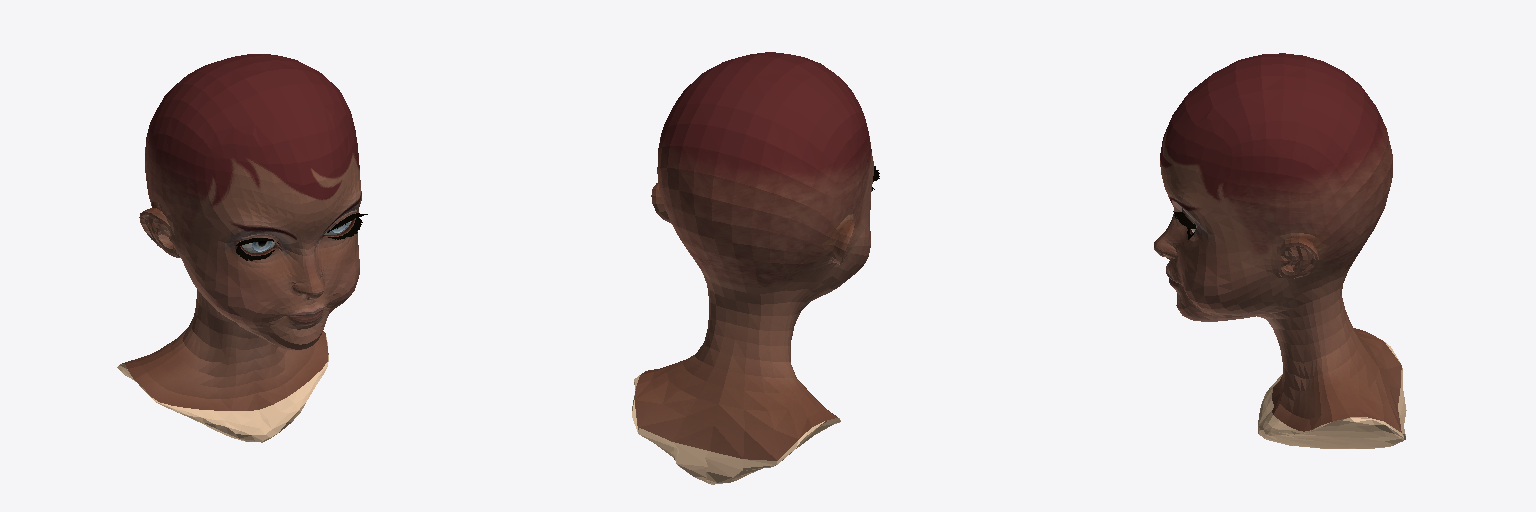
The picture shows the model from 3 angles: view 1: azimuth 30°, elevation 25°; view 2: azimuth 150°, elevation 25°; view 3: azimuth 270°, elevation 25°; orthographic projection.
Parts seen in each view (by area): view 1: Body, Eyelashes; view 2: Body; view 3: Body.
Boxes of the visible parts, x1=… form: Body: x1=122, y1=54, x2=361, y2=410; Eyelashes: x1=236, y1=213, x2=367, y2=260; Body: x1=635, y1=52, x2=873, y2=460; Body: x1=1154, y1=53, x2=1401, y2=432.
Bounding box in the file's own units: 19.72 × 36.36 × 21.77.
2 materials, 1 textured.